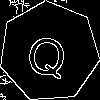Q: (24, 26, 70, 81)
